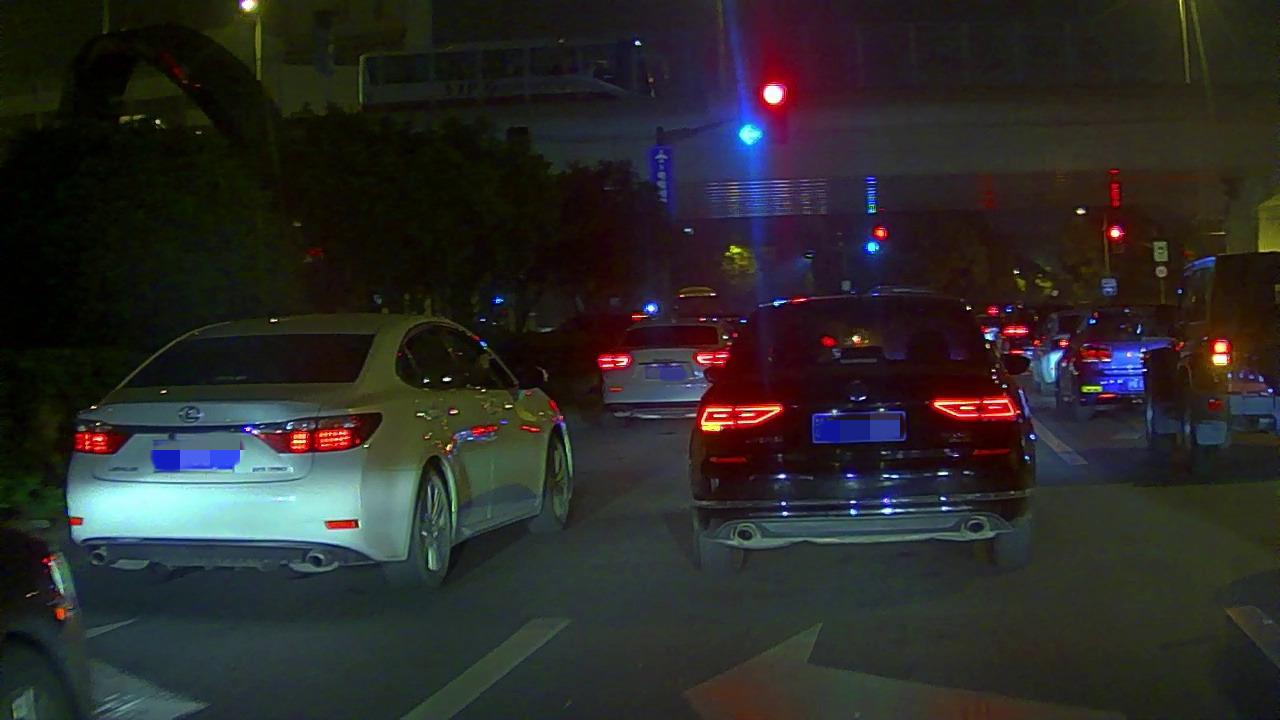traffic_light: (737, 126, 765, 146), (765, 83, 785, 104), (1110, 225, 1122, 241), (874, 227, 886, 240), (867, 242, 879, 253)
